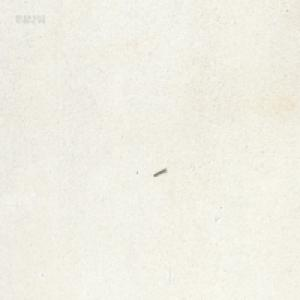Bolt: (153, 166, 166, 176)
